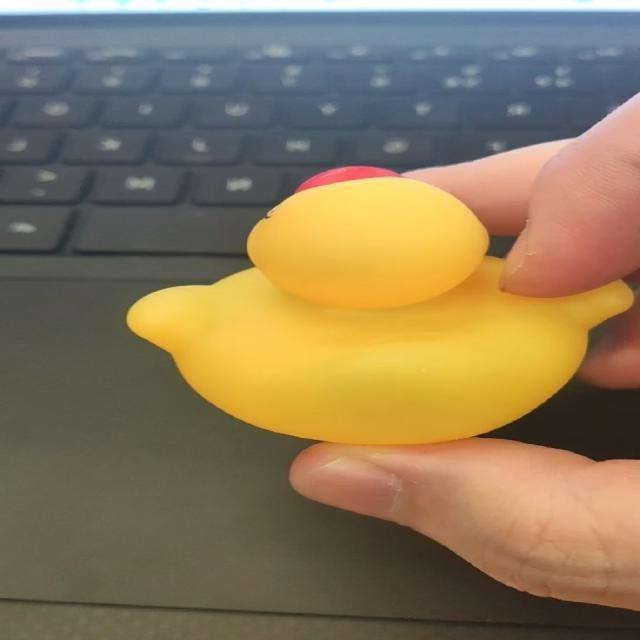rubber-duck: (126, 175, 631, 442)
